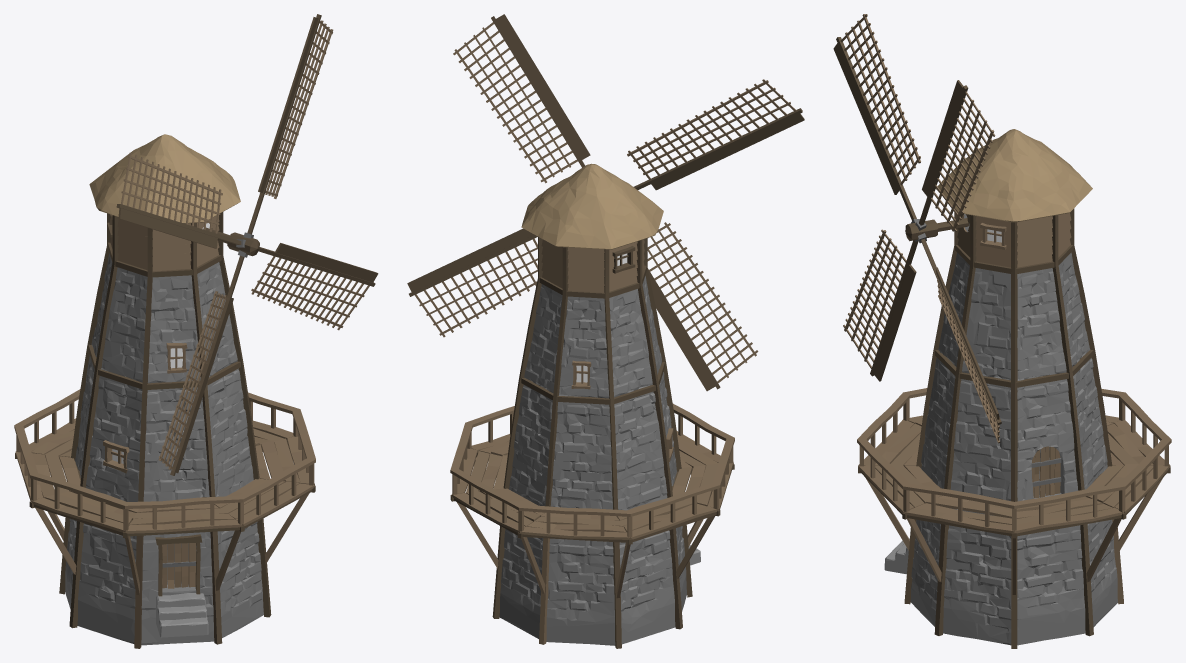
Rendered from windmill_b.FBX.
3 views of the same model, side by side, from view 1: azimuth 30°, elevation 25°; view 2: azimuth 150°, elevation 25°; view 3: azimuth 270°, elevation 25° (orthographic). The views are drawn at different scales.
Parts seen in each view (by area): view 1: windmill_b; view 2: windmill_b; view 3: windmill_b.
Boxes of the visible parts, x1,y1,x2,y2 form: windmill_b: [14, 14, 378, 648]; windmill_b: [407, 14, 804, 648]; windmill_b: [833, 14, 1171, 648].
Bounding box in the file's own units: 13.64 × 22.14 × 11.65.
